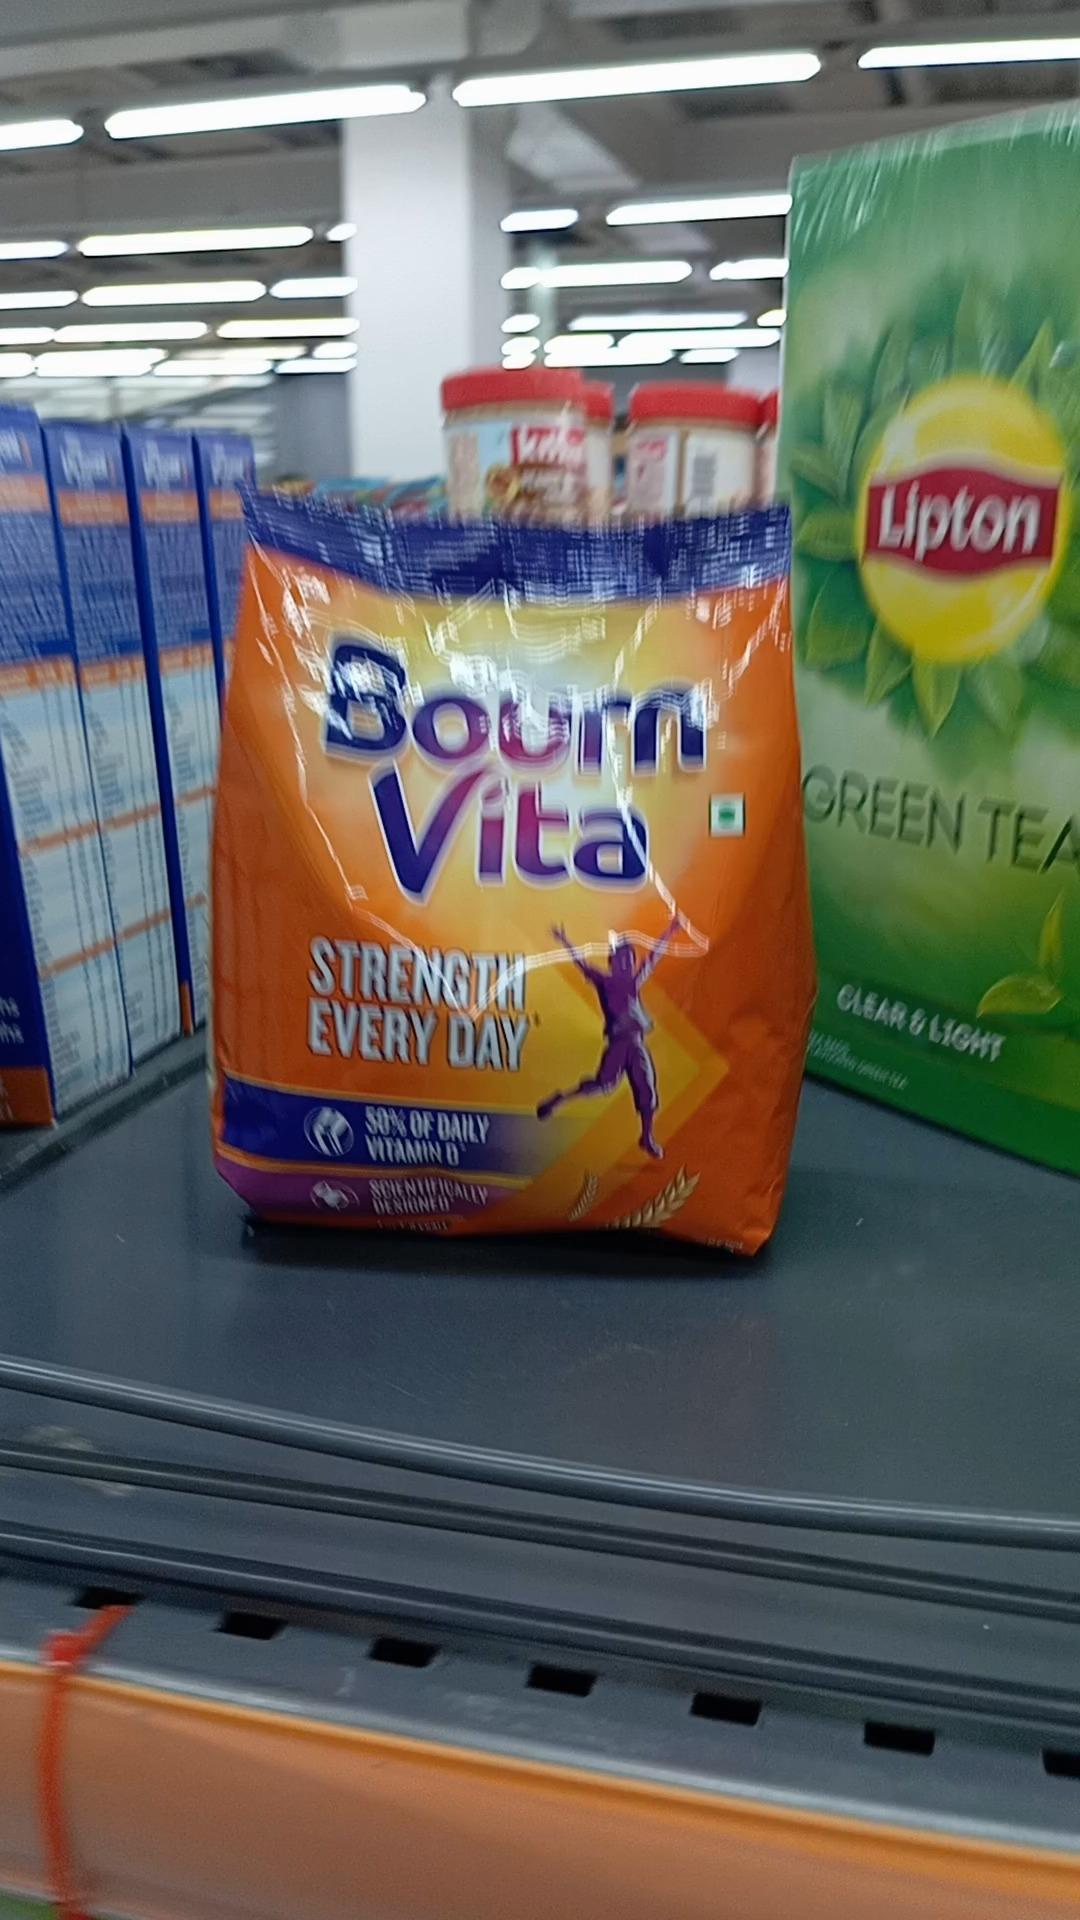BOURN_VITA_500_G_POUCH: (235, 485, 783, 1247)
